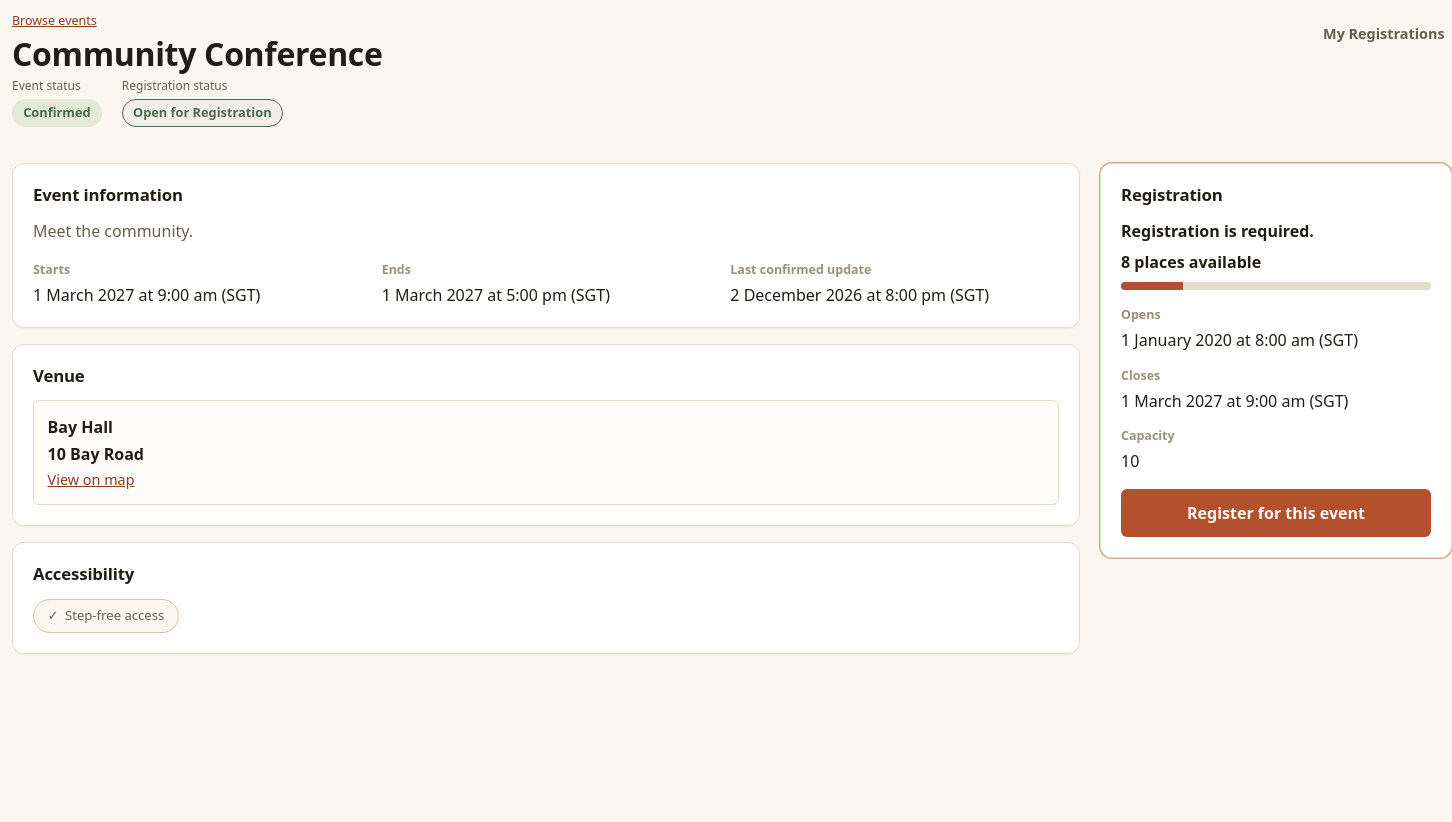
Test: AT02 attendee event details › AT01 AC10 (failure): explains a failed save and offers a safe retry
What coordinates should you click on to do the following:
click the button "Register for this event"
I would click on:
 (1276, 513)
Its box is [1121,489,1431,537].
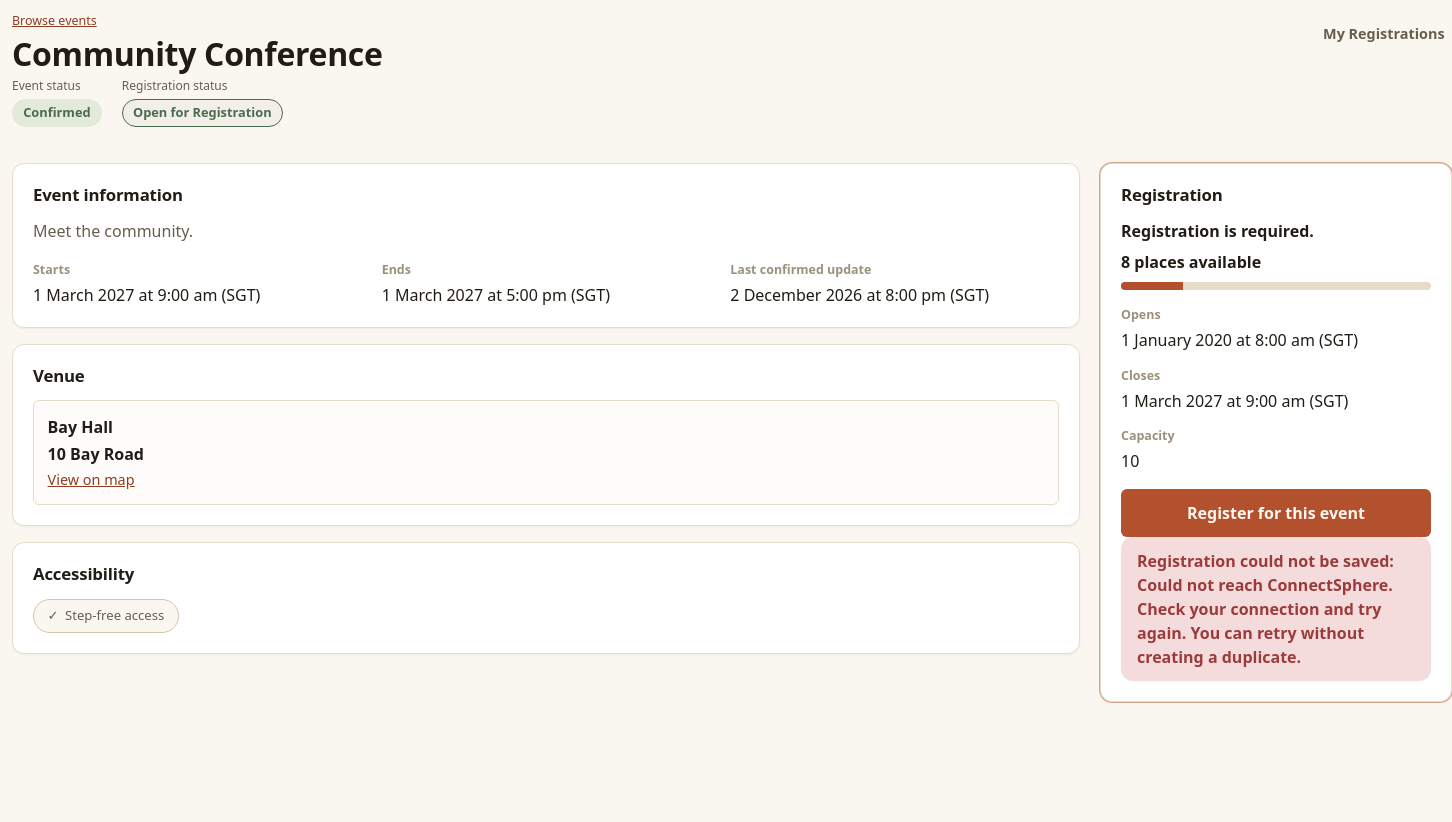
Now the text "Registration could not be saved" is shown, box [1137,550,1394,644]
What coordinates should you click on to do the following:
click the button "Register for this event"
I would click on:
 (1276, 513)
Its box is [1121,489,1431,537].
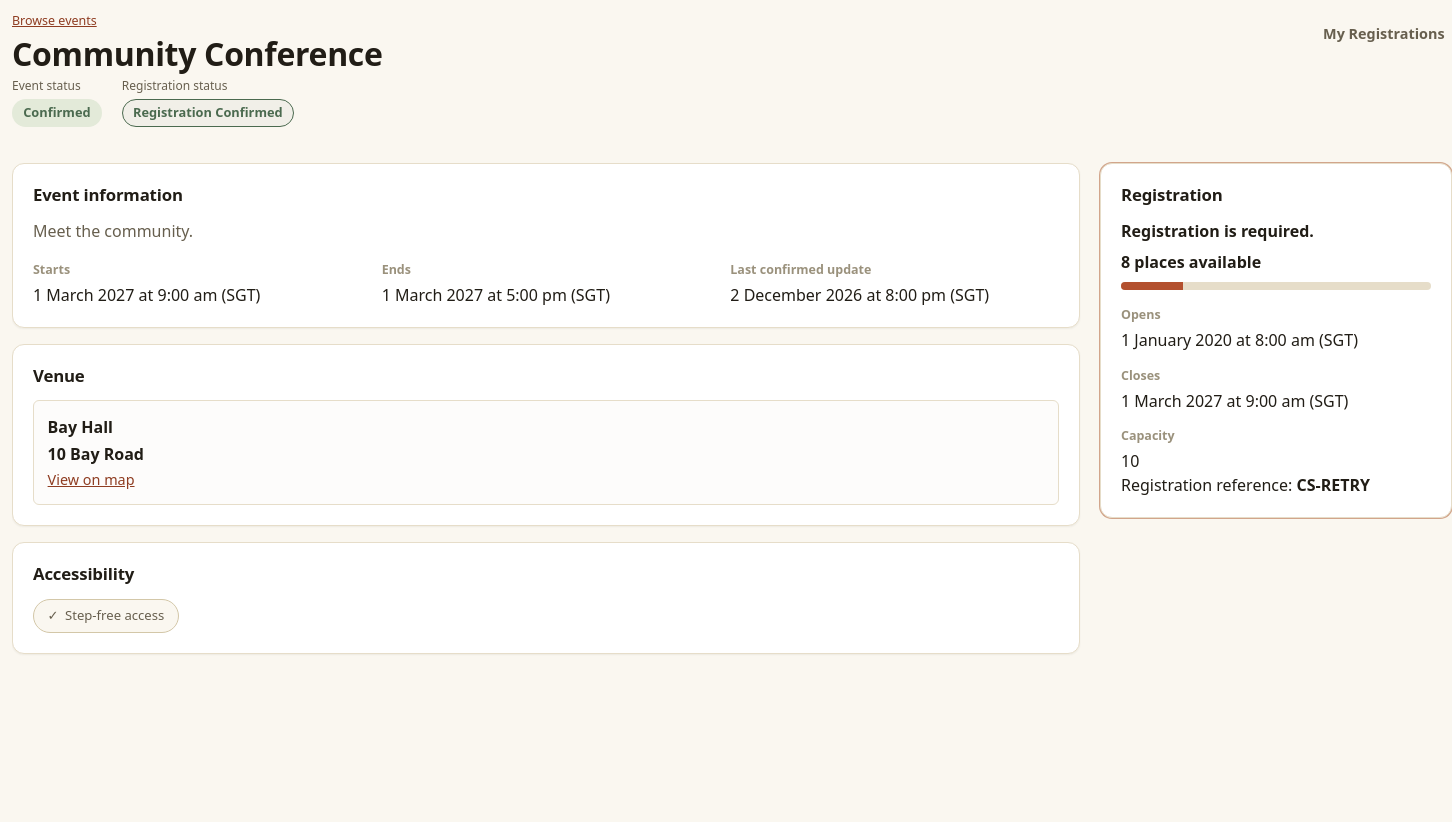
Now the text "CS-RETRY" is shown, box [1296,474,1370,496]
